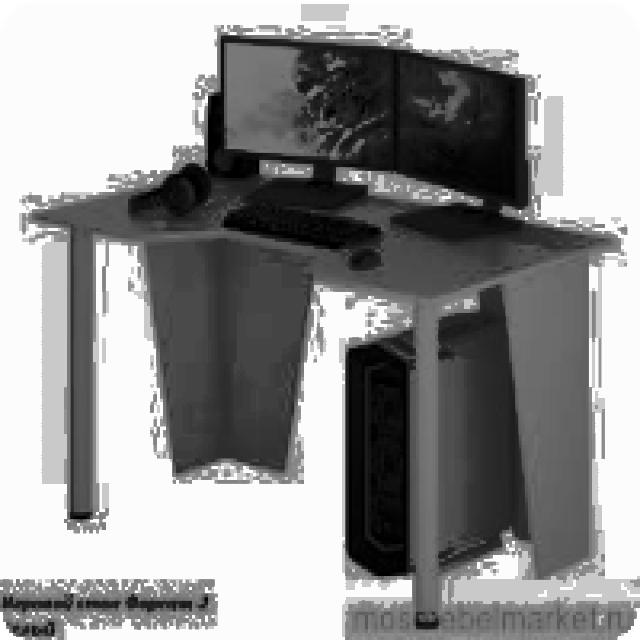table: (29, 164, 614, 626)
